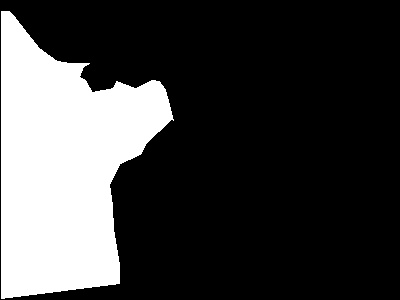Fire: (1, 76, 167, 299)
